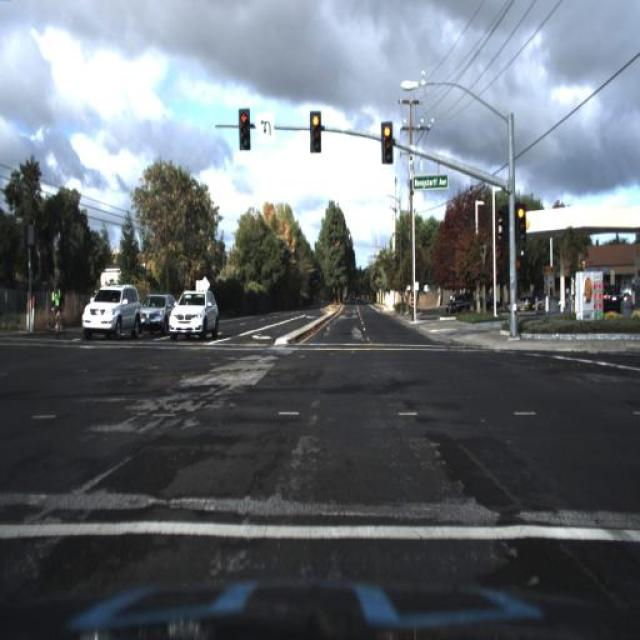car: (82, 283, 142, 342), (170, 289, 218, 340), (138, 294, 178, 334)
trafficLight: (52, 279, 64, 340)
trafficLight-RedLeft: (239, 107, 252, 152), (382, 121, 394, 165), (310, 111, 322, 155)
